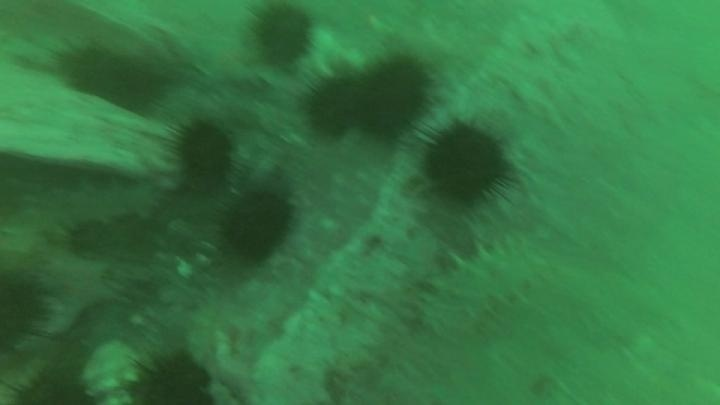echinus: (420, 121, 513, 207), (58, 39, 163, 115), (354, 55, 434, 139), (218, 186, 295, 264), (166, 116, 239, 190), (125, 348, 216, 405), (246, 3, 318, 70), (0, 267, 52, 355), (301, 73, 370, 139), (3, 359, 97, 405), (65, 218, 120, 261)
holothurian: (419, 232, 548, 331), (4, 174, 164, 242)
scallop: (78, 336, 146, 401)
starfish: (36, 250, 119, 331), (193, 33, 260, 86)
